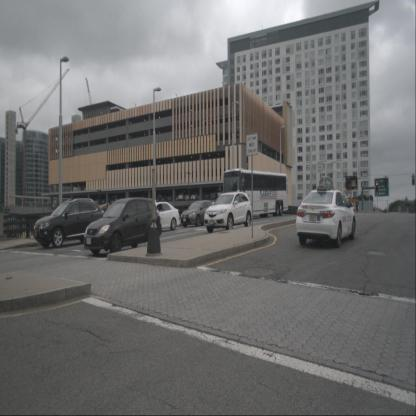movable_object-trafficcone: (353, 201, 357, 211)
vehicle-bus-rigid: (222, 169, 288, 221)
vehicle-car: (84, 197, 162, 254), (33, 199, 105, 250), (296, 189, 356, 248), (204, 192, 252, 233), (140, 201, 181, 232), (180, 200, 216, 228)
